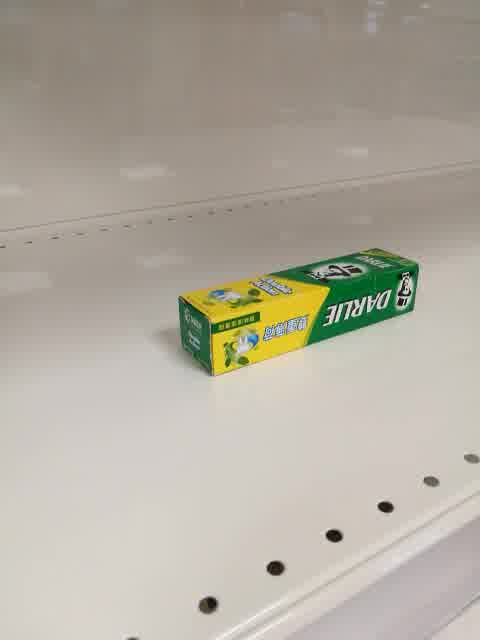toothpaste: (176, 249, 419, 377)
